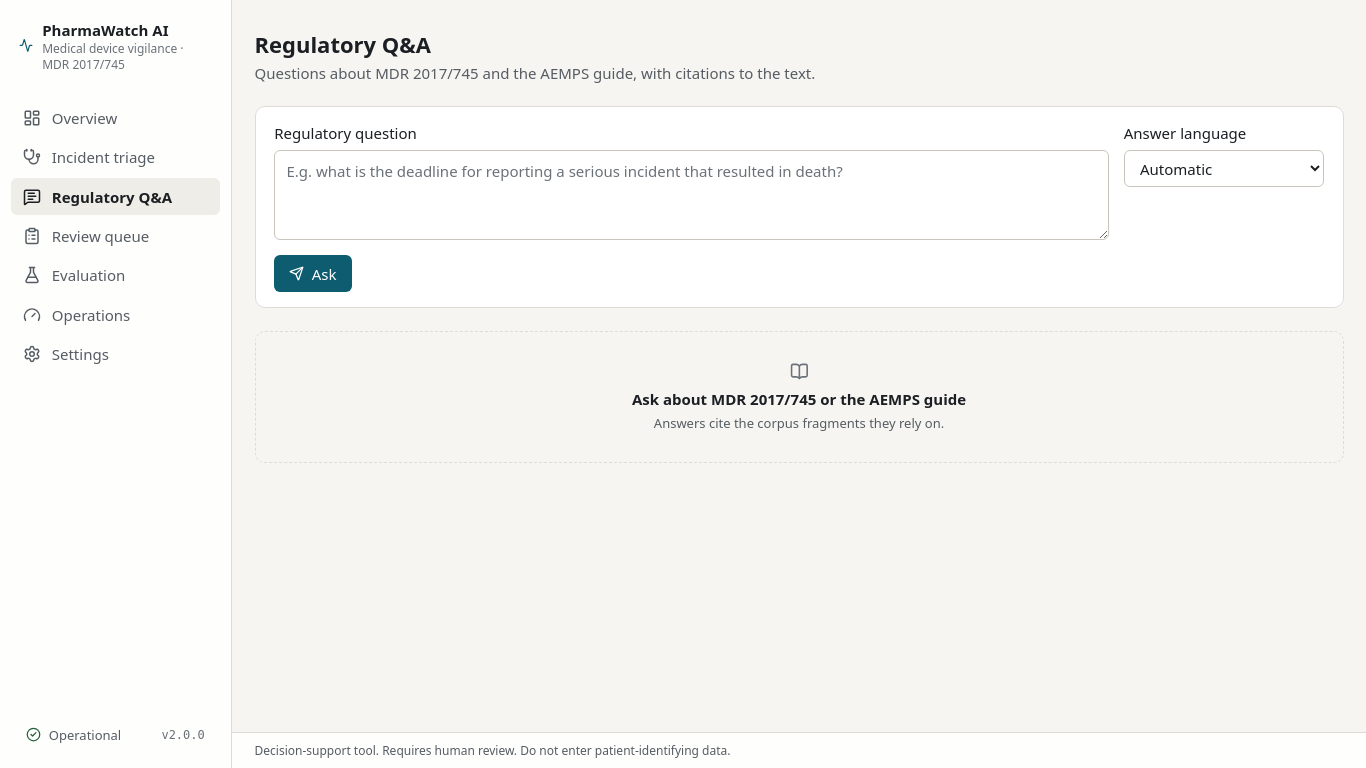
regulatory Q&A › shows abstention distinctly when the answer cites nothing
This screenshot has width=1366, height=768.
Type "What is the maximum daily dose of paracetamol?" into the text box labelled "Regulatory question" at (692, 195), box [274,150,1109,240]
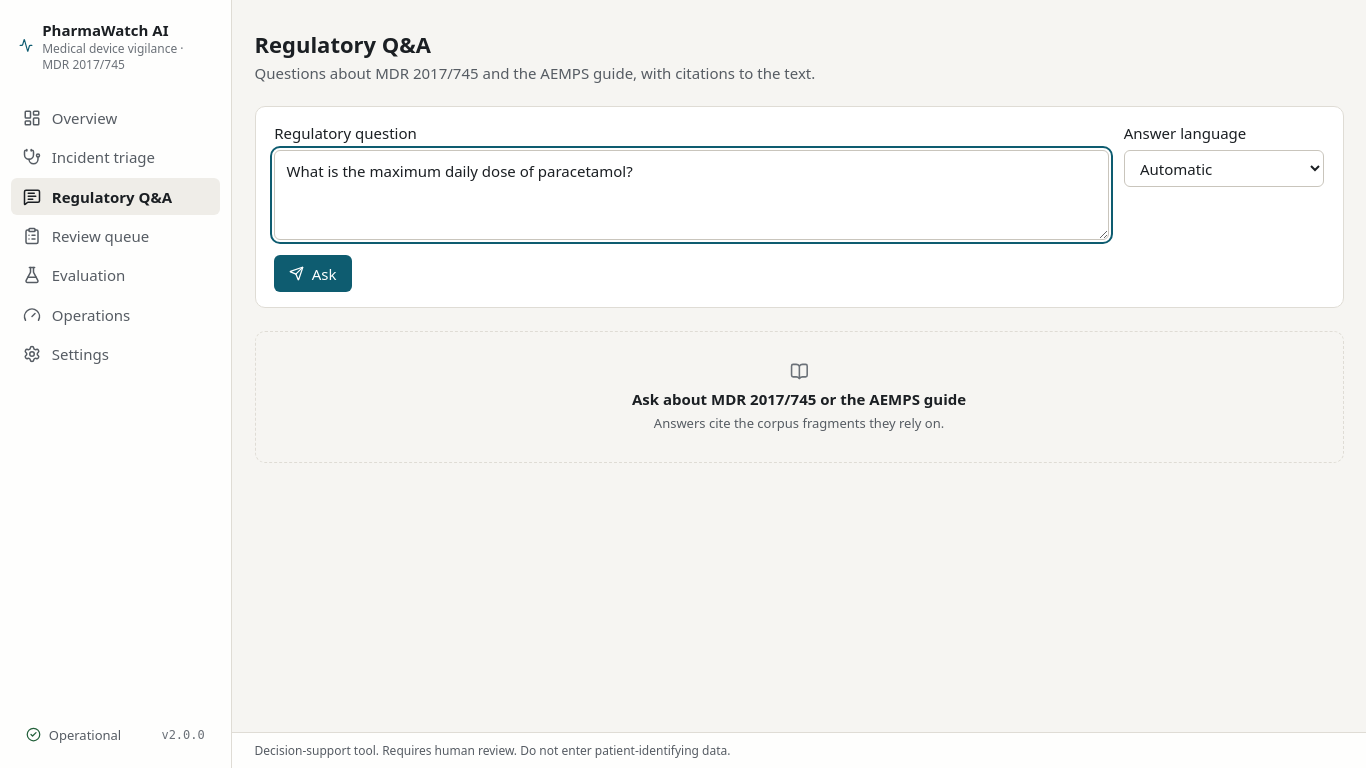
Click the button "Ask" at (313, 274), box [274,255,352,292]
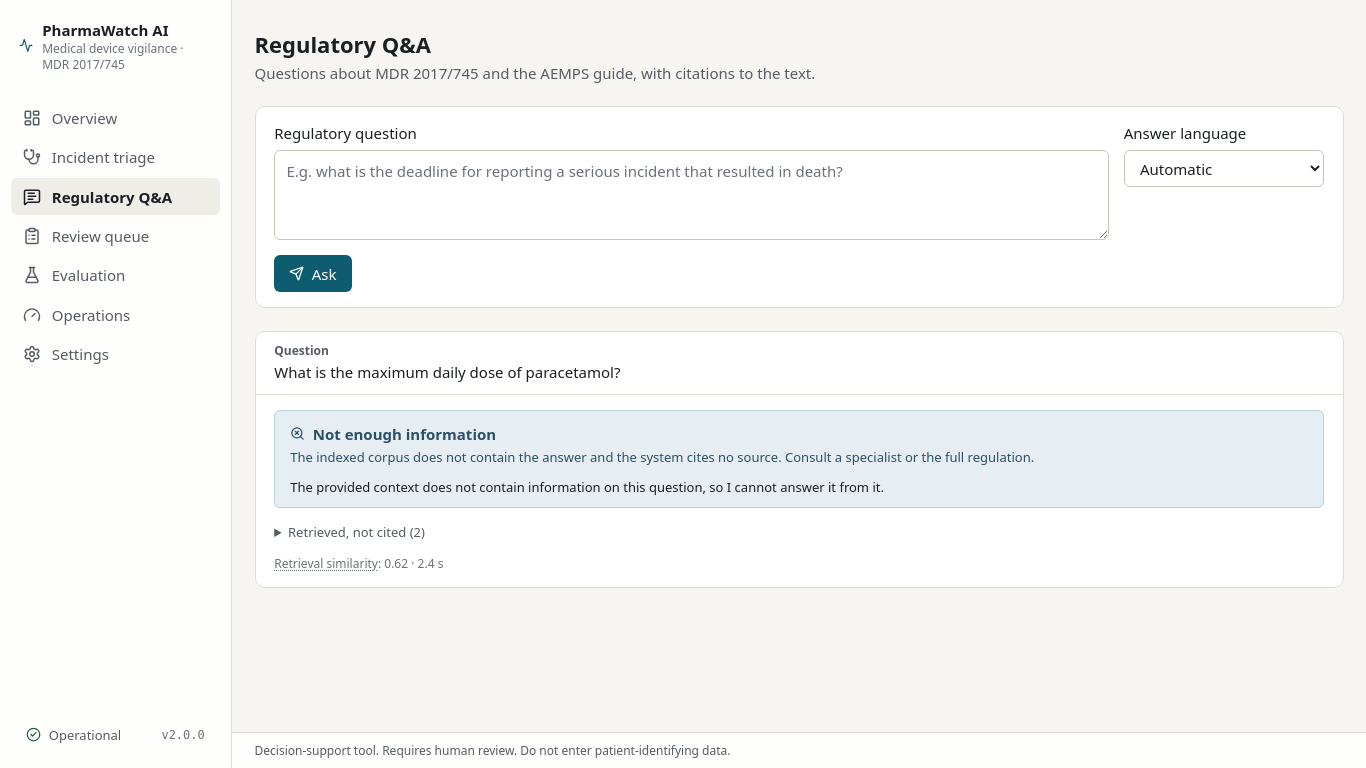
Now the text "Not enough information" is shown, box [290,424,496,444]
